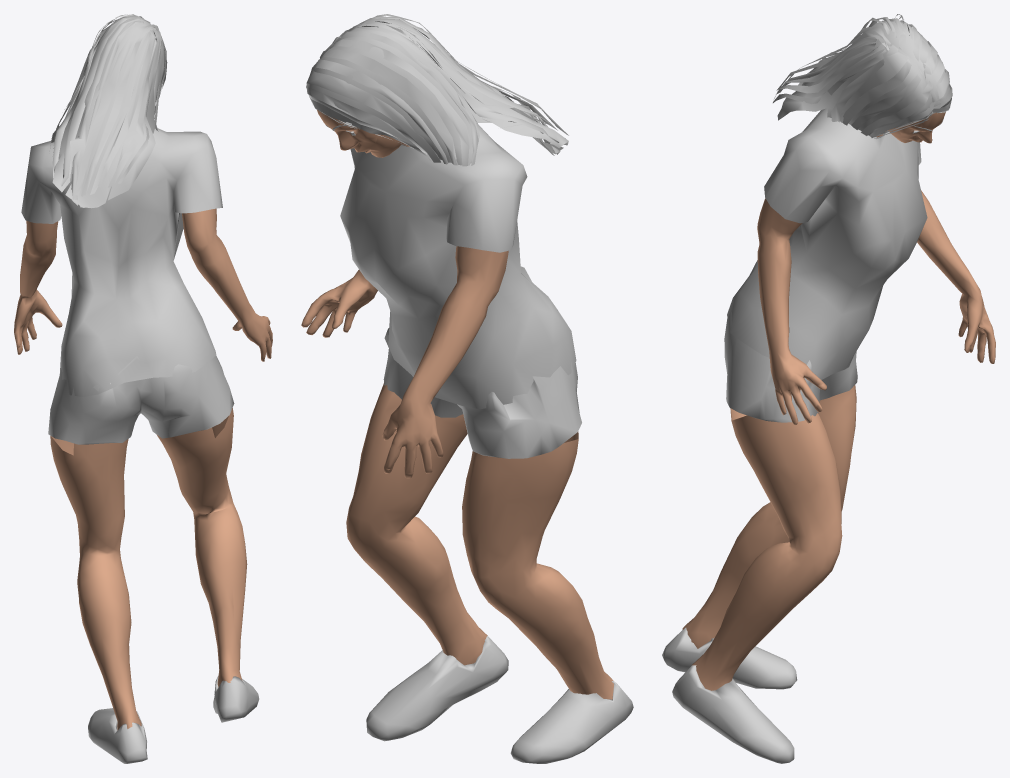
Rendered from player2att_000014.obj.
3 views of the same model, side by side, from view 1: azimuth 30°, elevation 25°; view 2: azimuth 150°, elevation 25°; view 3: azimuth 270°, elevation 25° (orthographic). The views are drawn at different scales.
Parts seen in each view (by area): view 1: player2:Body, player2:tshirt02, player2:fhair01, player2:short01, player2:shoes02; view 2: player2:Body, player2:tshirt02, player2:fhair01, player2:shoes02, player2:short01; view 3: player2:Body, player2:tshirt02, player2:fhair01, player2:shoes02, player2:short01.
Part boxes in pixels (x1,y1,x2,y2): player2:Body: [14, 208, 272, 730]; player2:tshirt02: [21, 128, 222, 396]; player2:fhair01: [49, 14, 167, 208]; player2:short01: [48, 355, 234, 444]; player2:shoes02: [88, 675, 259, 763]; player2:Body: [301, 110, 613, 699]; player2:tshirt02: [340, 123, 576, 409]; player2:fhair01: [306, 14, 568, 166]; player2:shoes02: [366, 636, 633, 763]; player2:short01: [383, 328, 581, 458]; player2:Body: [682, 112, 995, 690]; player2:tshirt02: [727, 108, 927, 379]; player2:fhair01: [773, 14, 952, 138]; player2:shoes02: [662, 627, 797, 763]; player2:short01: [724, 312, 857, 422].
Size of the model in its own units: 5.57 by 15.78 by 6.7.
